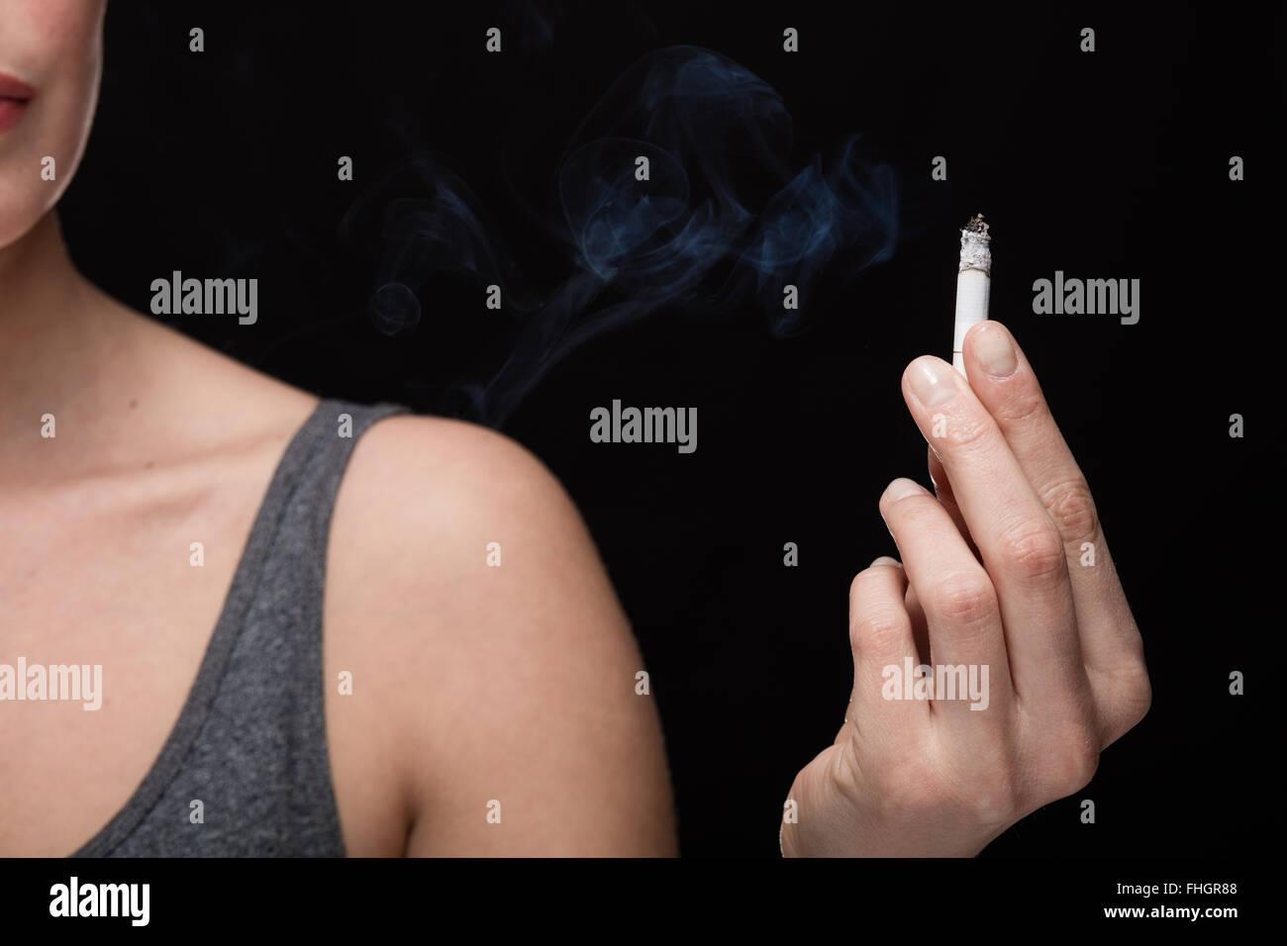cigarette: (952, 214, 990, 375)
